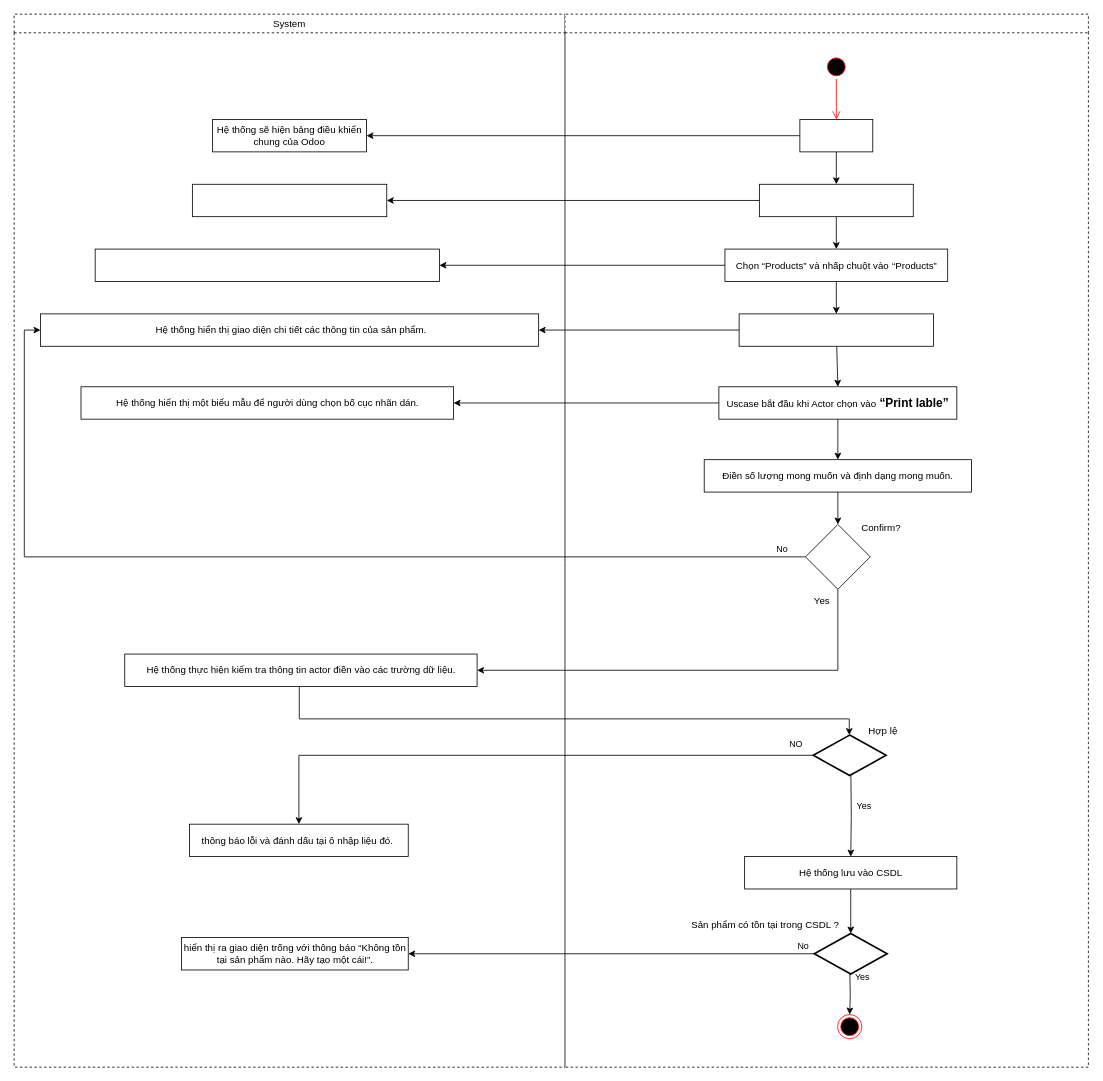
This 1103x1081 diagram has some shape labels left out. The shapes that lost their labels are listed below. From the top down, each one's box as (x1, y1, x2, y2) in pixels, then its label:
(799, 119, 873, 152): Login
(192, 183, 387, 217): Hệ thống hiển thị bảng điều khiển của kho.
(759, 183, 913, 217): Chọn “ Inventory”
(94, 248, 439, 281): Hệ thống hiển thị giao diện chứa tất cả sản phẩm có đã được tạo trước đó.
(738, 313, 934, 346): Chọn vào một sản phẩm đã có trước đó
(564, 13, 1088, 1067): Admin
